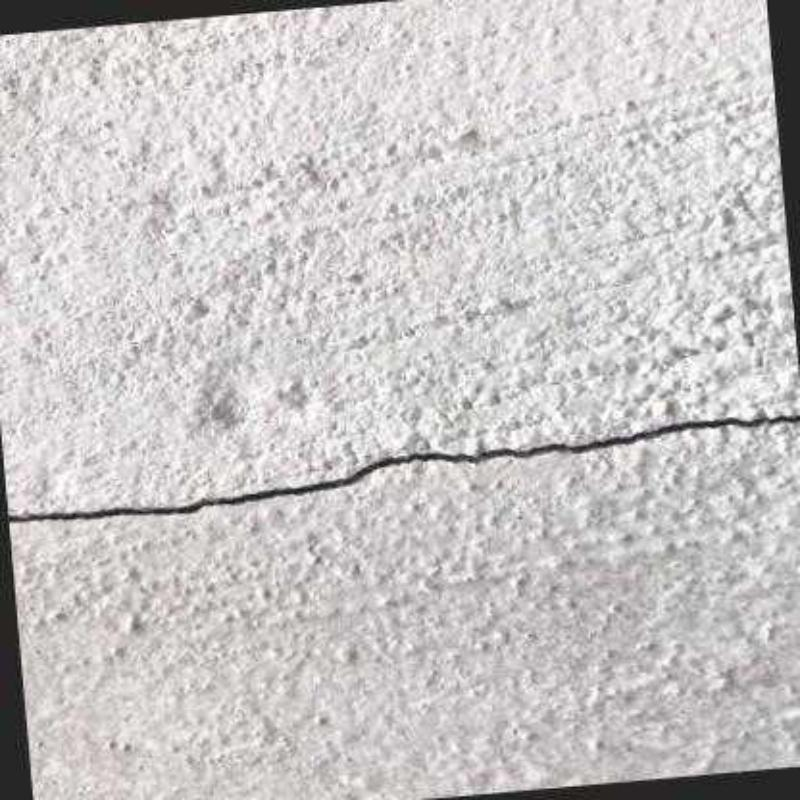pothole: (8, 414, 798, 524)
